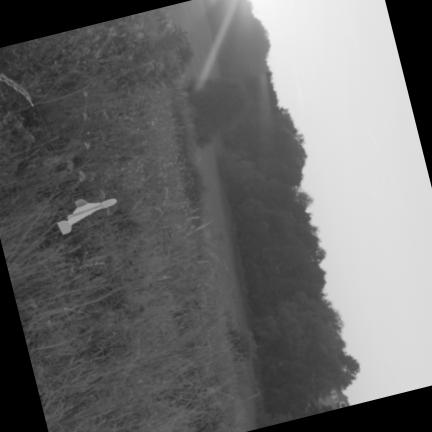Shahed: (57, 199, 116, 234)
